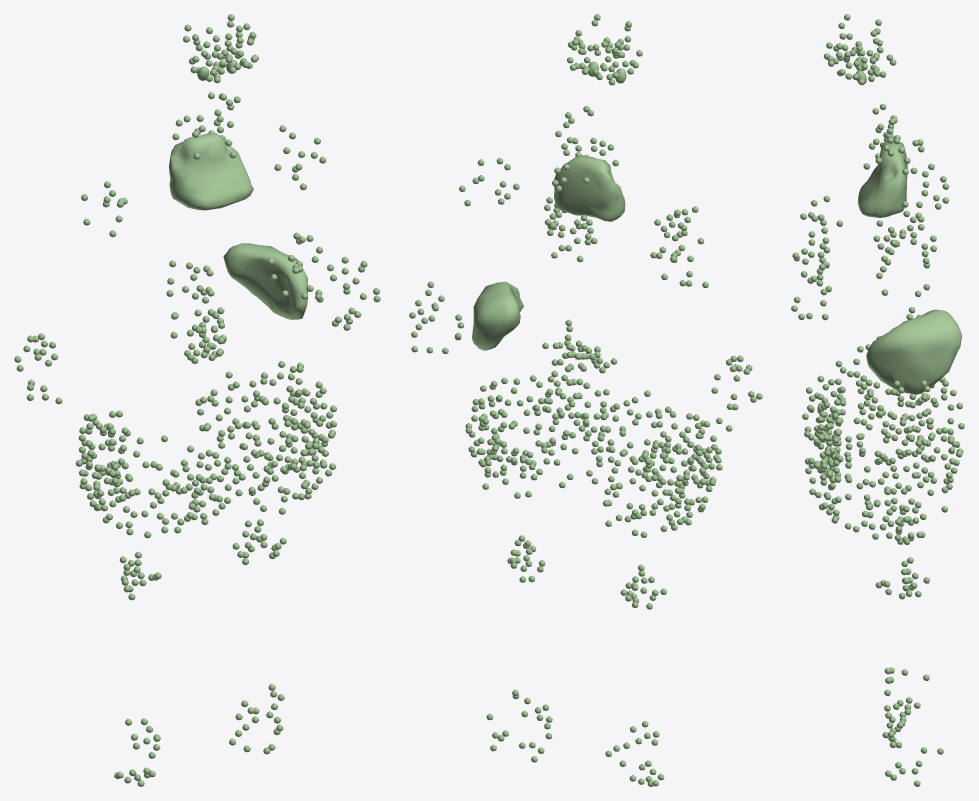
The model's file is pediatric_infant_female.lymphatic.LOD0.glb.
3 renders of one model, left to right at view 1: azimuth 30°, elevation 25°; view 2: azimuth 150°, elevation 25°; view 3: azimuth 270°, elevation 25°, orthographic. The views are drawn at different scales.
Visible parts, largest first — view 1: PEDIATRIC.INFANT.FEMALE.LYMPHATIC.LYMPHATIC_NODES_TRUNK, PEDIATRIC.INFANT.FEMALE.LYMPHATIC.THYMUS, PEDIATRIC.INFANT.FEMALE.LYMPHATIC.SPLEEN, PEDIATRIC.INFANT.FEMALE.LYMPHATIC.LYMPHATIC_NODES_ET, PEDIATRIC.INFANT.FEMALE.LYMPHATIC.LYMPHATIC_NODES_ARMS, PEDIATRIC.INFANT.FEMALE.LYMPHATIC.LYMPHATIC_NODES_LEGS, PEDIATRIC.INFANT.FEMALE.LYMPHATIC.LYMPHATIC_NODES_THORACIC, PEDIATRIC.INFANT.FEMALE.LYMPHATIC.LYMPHATIC_NODES_HEAD; view 2: PEDIATRIC.INFANT.FEMALE.LYMPHATIC.LYMPHATIC_NODES_TRUNK, PEDIATRIC.INFANT.FEMALE.LYMPHATIC.THYMUS, PEDIATRIC.INFANT.FEMALE.LYMPHATIC.SPLEEN, PEDIATRIC.INFANT.FEMALE.LYMPHATIC.LYMPHATIC_NODES_THORACIC, PEDIATRIC.INFANT.FEMALE.LYMPHATIC.LYMPHATIC_NODES_ET, PEDIATRIC.INFANT.FEMALE.LYMPHATIC.LYMPHATIC_NODES_LEGS, PEDIATRIC.INFANT.FEMALE.LYMPHATIC.LYMPHATIC_NODES_ARMS, PEDIATRIC.INFANT.FEMALE.LYMPHATIC.LYMPHATIC_NODES_HEAD; view 3: PEDIATRIC.INFANT.FEMALE.LYMPHATIC.LYMPHATIC_NODES_TRUNK, PEDIATRIC.INFANT.FEMALE.LYMPHATIC.SPLEEN, PEDIATRIC.INFANT.FEMALE.LYMPHATIC.THYMUS, PEDIATRIC.INFANT.FEMALE.LYMPHATIC.LYMPHATIC_NODES_ET, PEDIATRIC.INFANT.FEMALE.LYMPHATIC.LYMPHATIC_NODES_LEGS, PEDIATRIC.INFANT.FEMALE.LYMPHATIC.LYMPHATIC_NODES_ARMS, PEDIATRIC.INFANT.FEMALE.LYMPHATIC.LYMPHATIC_NODES_THORACIC, PEDIATRIC.INFANT.FEMALE.LYMPHATIC.LYMPHATIC_NODES_HEAD.
Part boxes in pixels (<box>): PEDIATRIC.INFANT.FEMALE.LYMPHATIC.LYMPHATIC_NODES_TRUNK: <box>75,125,336,600</box>; PEDIATRIC.INFANT.FEMALE.LYMPHATIC.THYMUS: <box>169,133,253,210</box>; PEDIATRIC.INFANT.FEMALE.LYMPHATIC.SPLEEN: <box>223,243,307,319</box>; PEDIATRIC.INFANT.FEMALE.LYMPHATIC.LYMPHATIC_NODES_ET: <box>183,14,258,83</box>; PEDIATRIC.INFANT.FEMALE.LYMPHATIC.LYMPHATIC_NODES_ARMS: <box>14,256,380,404</box>; PEDIATRIC.INFANT.FEMALE.LYMPHATIC.LYMPHATIC_NODES_LEGS: <box>114,684,284,786</box>; PEDIATRIC.INFANT.FEMALE.LYMPHATIC.LYMPHATIC_NODES_THORACIC: <box>172,128,226,363</box>; PEDIATRIC.INFANT.FEMALE.LYMPHATIC.LYMPHATIC_NODES_HEAD: <box>175,92,240,159</box>; PEDIATRIC.INFANT.FEMALE.LYMPHATIC.LYMPHATIC_NODES_TRUNK: <box>459,158,722,609</box>; PEDIATRIC.INFANT.FEMALE.LYMPHATIC.THYMUS: <box>554,155,625,221</box>; PEDIATRIC.INFANT.FEMALE.LYMPHATIC.SPLEEN: <box>472,281,523,350</box>; PEDIATRIC.INFANT.FEMALE.LYMPHATIC.LYMPHATIC_NODES_THORACIC: <box>542,164,617,373</box>; PEDIATRIC.INFANT.FEMALE.LYMPHATIC.LYMPHATIC_NODES_ET: <box>567,14,642,85</box>; PEDIATRIC.INFANT.FEMALE.LYMPHATIC.LYMPHATIC_NODES_LEGS: <box>486,689,664,786</box>; PEDIATRIC.INFANT.FEMALE.LYMPHATIC.LYMPHATIC_NODES_ARMS: <box>409,281,762,431</box>; PEDIATRIC.INFANT.FEMALE.LYMPHATIC.LYMPHATIC_NODES_HEAD: <box>555,106,618,166</box>; PEDIATRIC.INFANT.FEMALE.LYMPHATIC.LYMPHATIC_NODES_TRUNK: <box>791,127,964,599</box>; PEDIATRIC.INFANT.FEMALE.LYMPHATIC.SPLEEN: <box>866,309,961,393</box>; PEDIATRIC.INFANT.FEMALE.LYMPHATIC.THYMUS: <box>858,142,907,217</box>; PEDIATRIC.INFANT.FEMALE.LYMPHATIC.LYMPHATIC_NODES_ET: <box>823,14,896,85</box>; PEDIATRIC.INFANT.FEMALE.LYMPHATIC.LYMPHATIC_NODES_LEGS: <box>882,667,943,786</box>; PEDIATRIC.INFANT.FEMALE.LYMPHATIC.LYMPHATIC_NODES_ARMS: <box>876,229,932,446</box>; PEDIATRIC.INFANT.FEMALE.LYMPHATIC.LYMPHATIC_NODES_THORACIC: <box>865,146,949,350</box>; PEDIATRIC.INFANT.FEMALE.LYMPHATIC.LYMPHATIC_NODES_HEAD: <box>863,103,904,169</box>.
Size of the model in its own units: 0.2529 by 0.5138 by 0.111.
